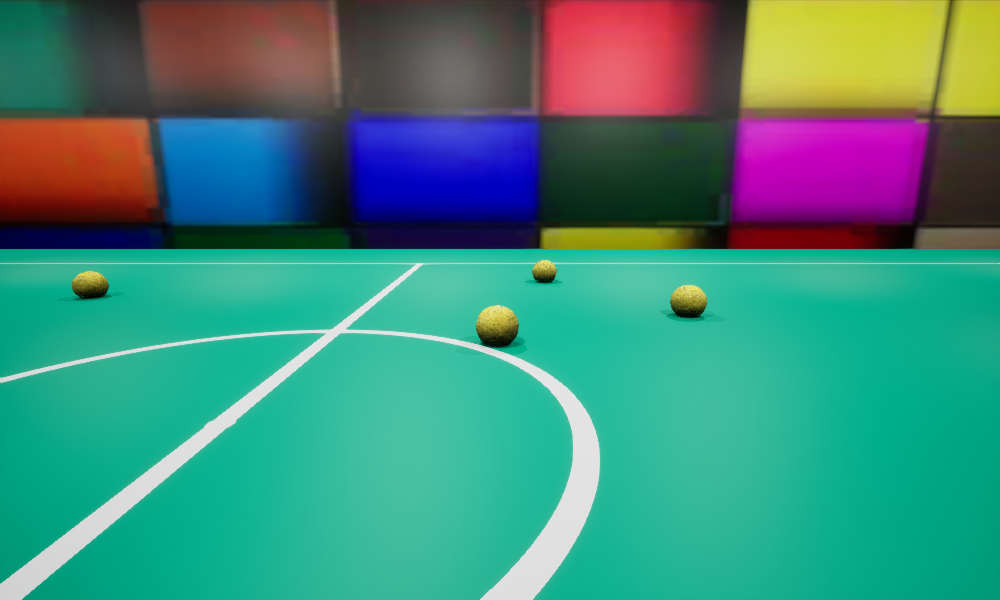b: (476, 305, 518, 345), (670, 285, 706, 317), (72, 271, 108, 298), (532, 260, 556, 282)
